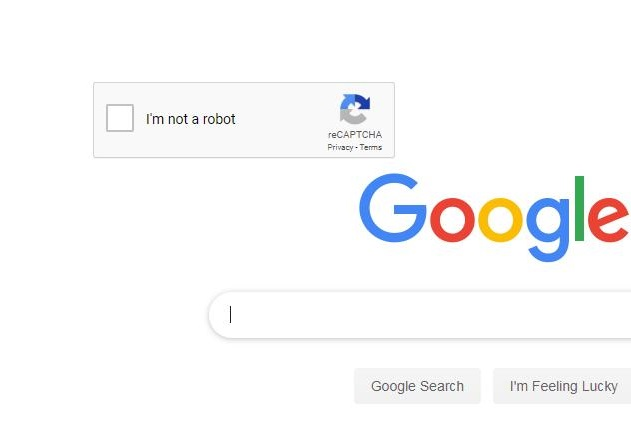captcha: (106, 104, 239, 132)
